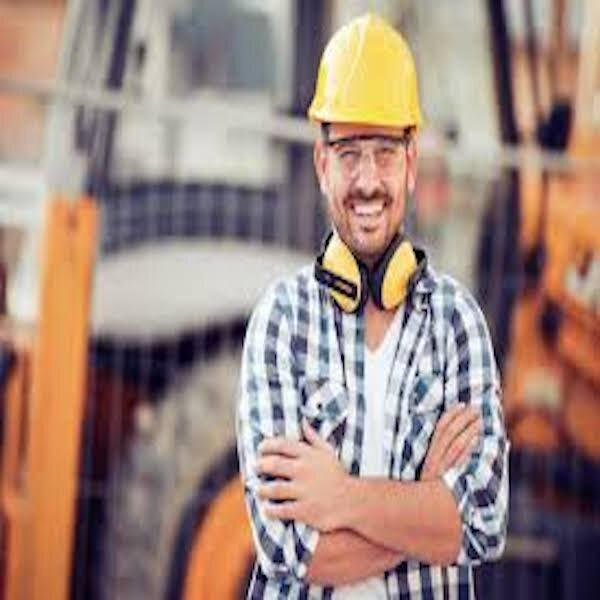helmet: (310, 15, 428, 130)
